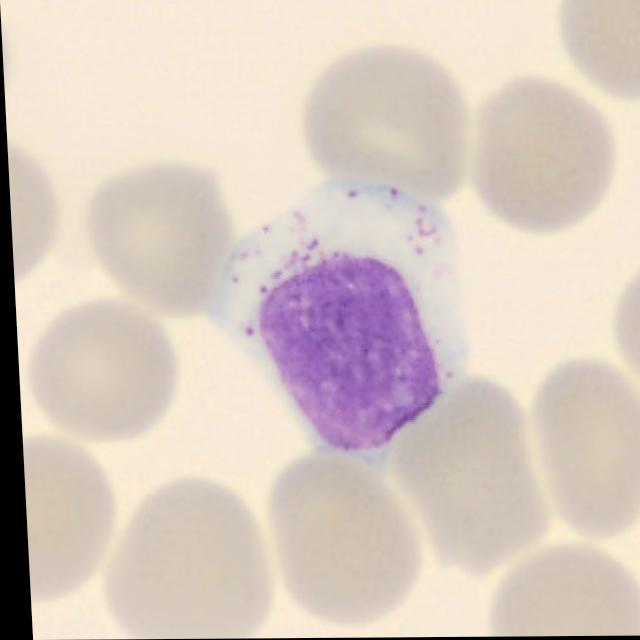Linfocito atipico: (203, 176, 462, 447)
